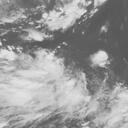cyclone: (26, 53, 88, 106)
